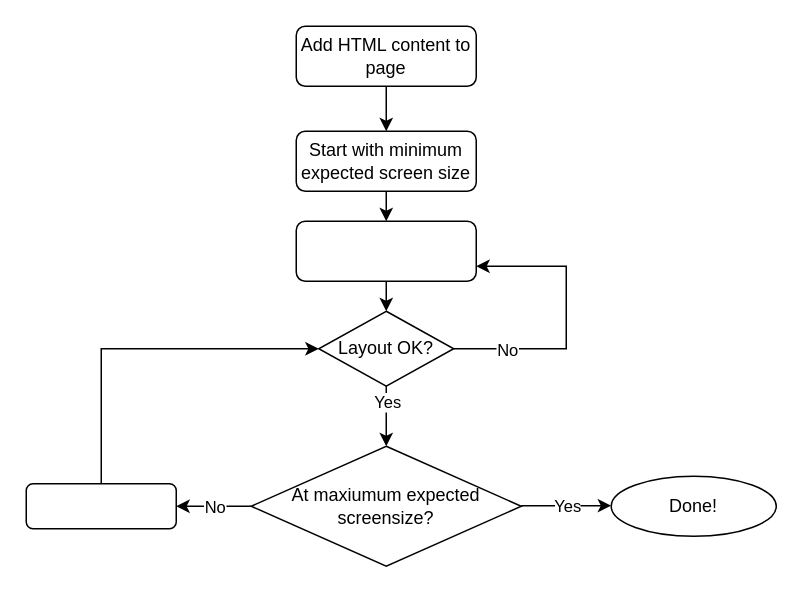
This 803x593 diagram has some shape labels left out. The box of each missing label's shape, as (x1, y1, x2, y2) in pixels:
Edit CSS for current screensize: (295, 220, 476, 281)
Increase Screen Size: (25, 482, 176, 529)
